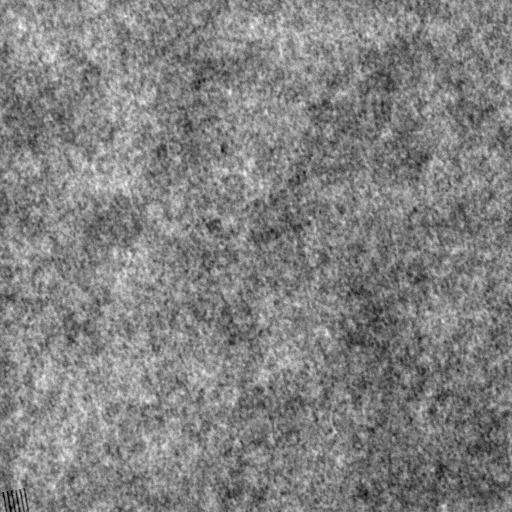impact: (1, 487, 34, 510)
